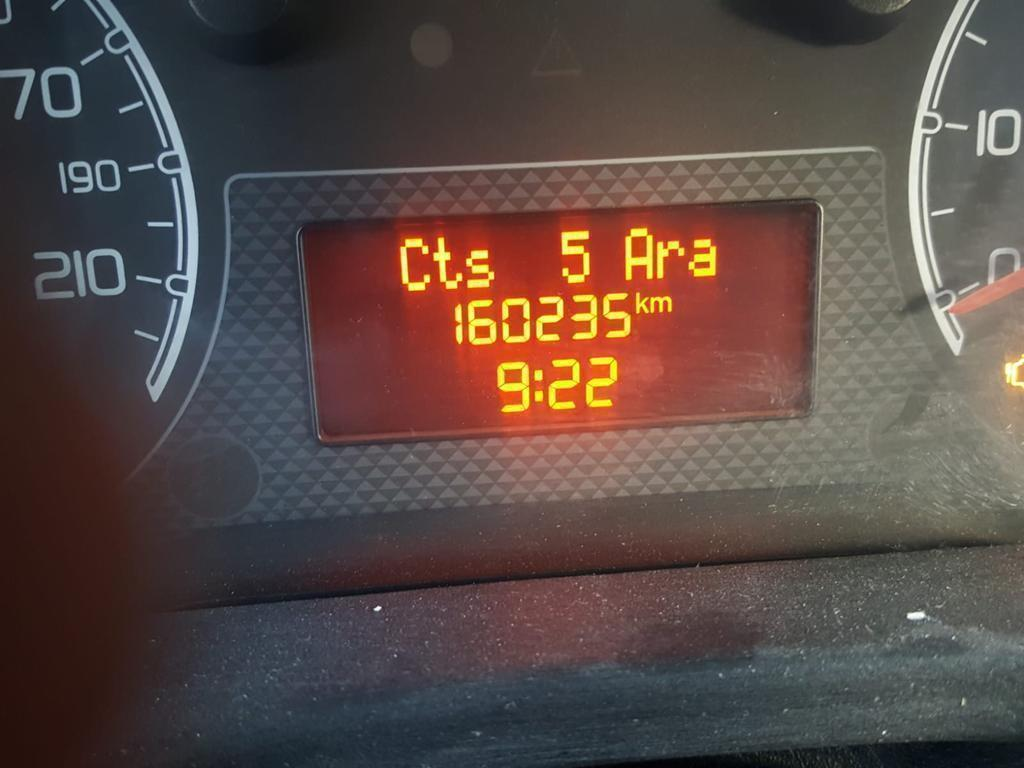0: (498, 296, 533, 345)
1: (449, 300, 464, 348)
2: (584, 353, 620, 410), (546, 357, 580, 411), (533, 294, 564, 344)
3: (569, 291, 599, 342)
5: (555, 226, 593, 285), (601, 289, 631, 340)
6: (466, 296, 497, 348)
9: (493, 358, 530, 415)
X: (396, 232, 432, 295), (621, 220, 655, 282), (431, 234, 463, 291), (464, 245, 498, 291), (688, 234, 720, 279), (656, 236, 686, 281), (532, 362, 545, 408), (650, 293, 673, 315), (631, 287, 648, 315)
odometer: (288, 193, 829, 450)
